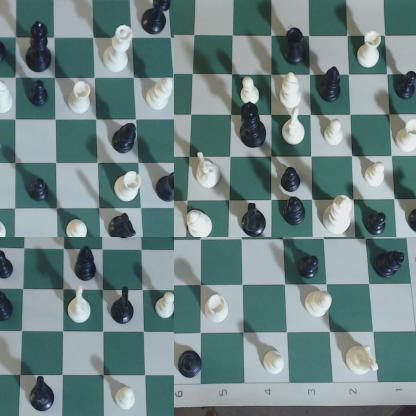black-bishop: (75, 244, 102, 286), (320, 64, 345, 105), (375, 248, 406, 280), (112, 120, 139, 154), (283, 197, 309, 230), (178, 351, 204, 380), (1, 287, 17, 325)
black-king: (24, 19, 54, 73), (238, 103, 270, 153)
black-knight: (237, 199, 273, 237), (28, 374, 56, 415), (113, 284, 136, 327), (108, 212, 137, 237), (1, 23, 10, 65)
black-pawn: (28, 78, 52, 108), (366, 210, 392, 237), (298, 254, 325, 280), (396, 70, 416, 105), (281, 167, 306, 195), (28, 179, 51, 203), (1, 252, 16, 282)
black-queen: (141, 1, 174, 36)
black-rook: (283, 25, 307, 67), (156, 169, 174, 204)
white-bishop: (302, 288, 334, 322), (146, 76, 174, 113), (280, 73, 307, 111), (186, 207, 217, 237), (1, 79, 16, 116)
white-king: (321, 196, 354, 238)
white-knight: (347, 337, 384, 381), (195, 149, 224, 192), (68, 287, 94, 326), (283, 110, 306, 147)
white-pawn: (262, 346, 288, 381), (238, 73, 262, 106), (321, 119, 345, 149), (114, 386, 139, 412), (154, 290, 174, 321), (367, 162, 386, 191), (66, 220, 89, 237)
white-queen: (104, 24, 134, 74)
white-rook: (355, 30, 382, 72), (204, 291, 231, 327), (116, 170, 144, 203), (70, 82, 93, 115), (397, 119, 416, 157)
